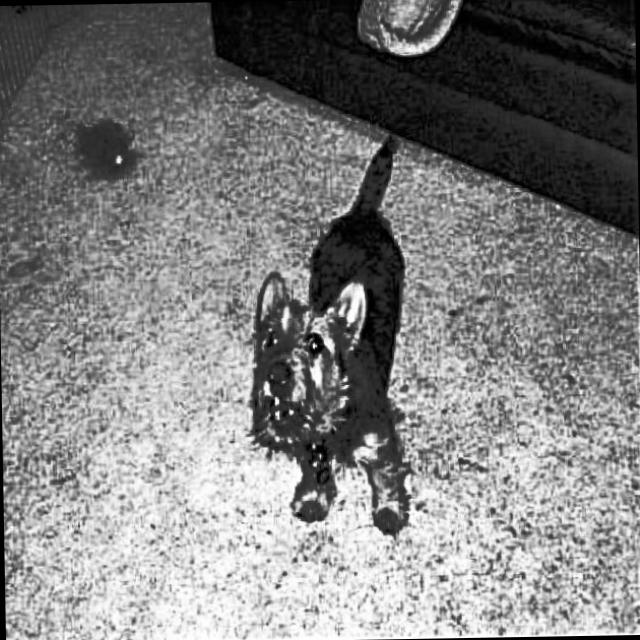Dog: (246, 125, 424, 548)
